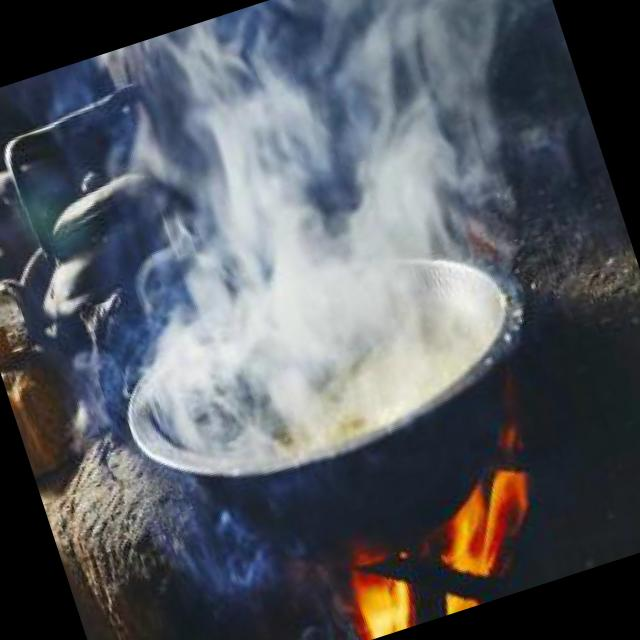fire: (339, 523, 494, 640)
smoke: (26, 0, 577, 497)
